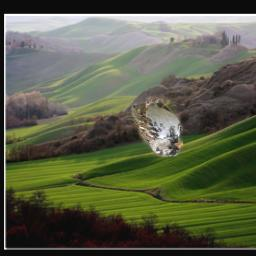Sparrow: (131, 96, 183, 157)
